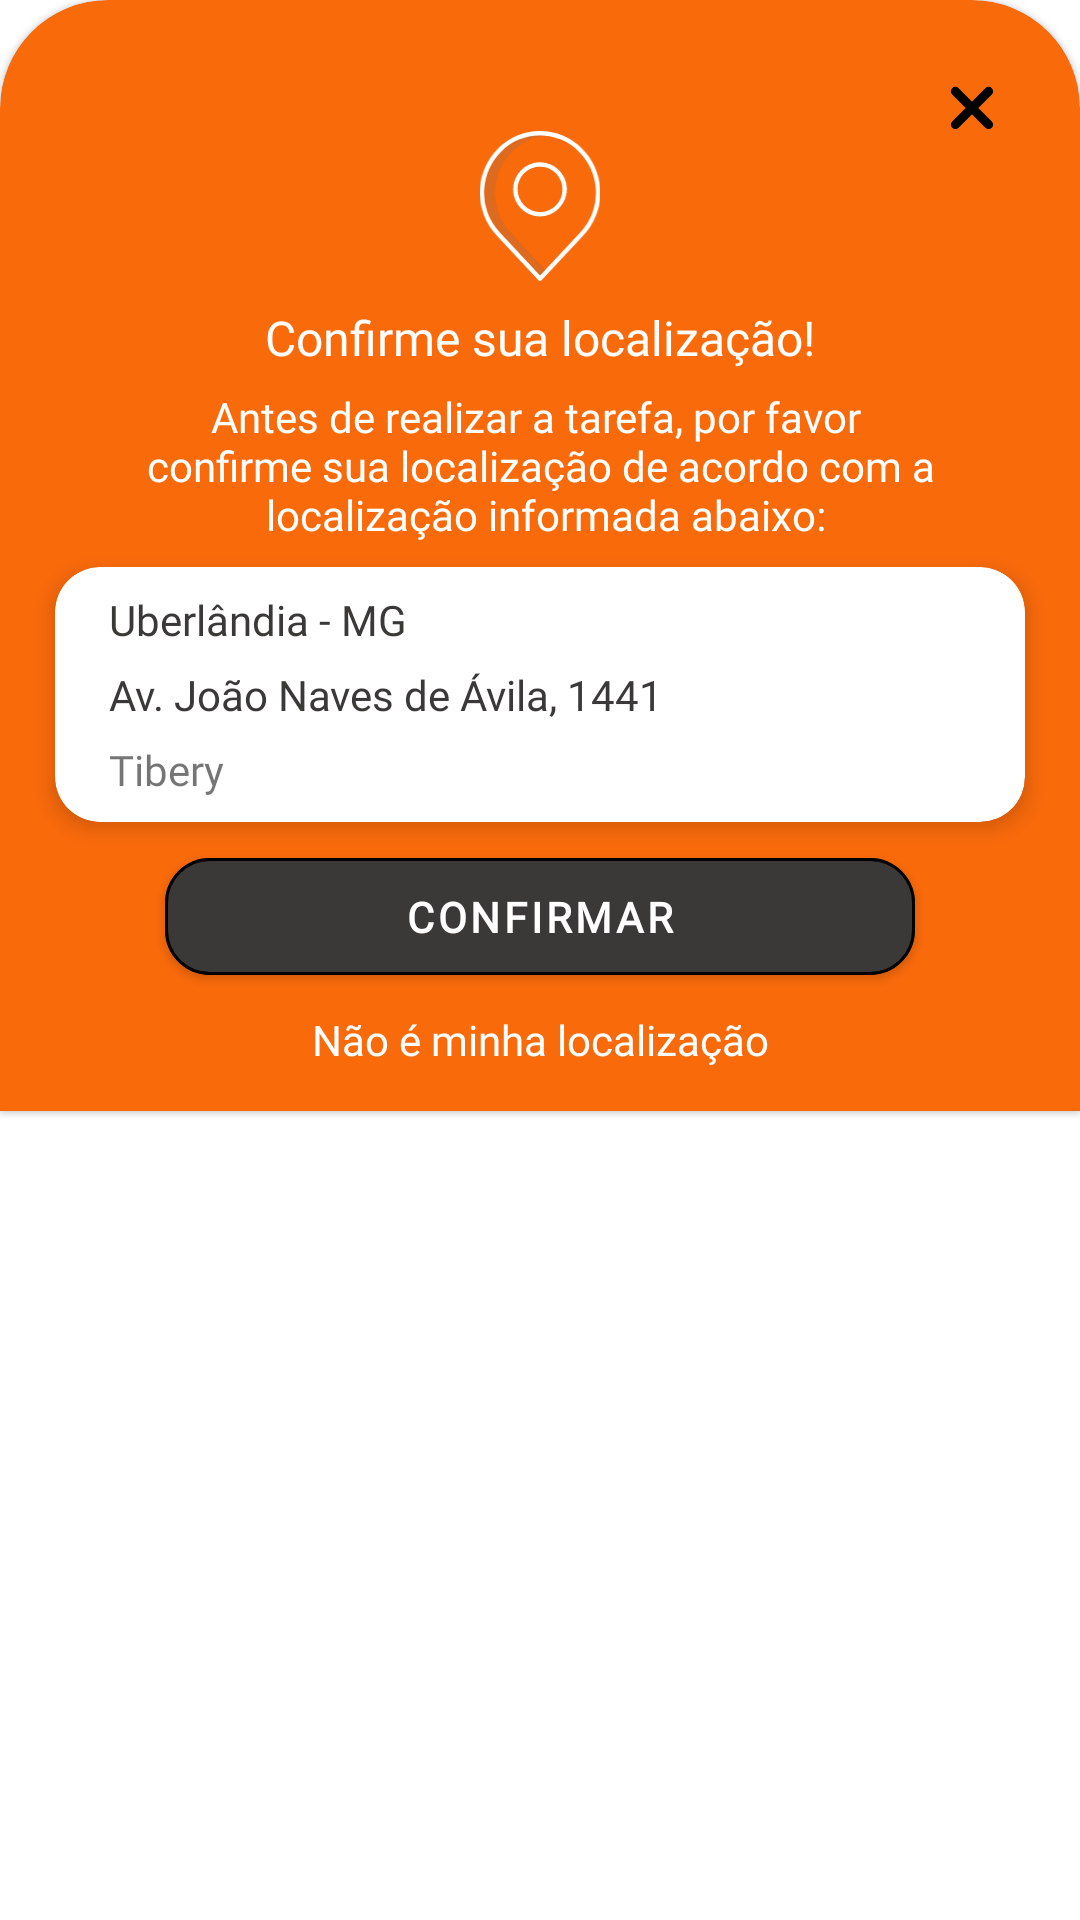

Screen size 1080 × 1920. Icon name, then its center in pixels as (x,y):
close: (972,107)
